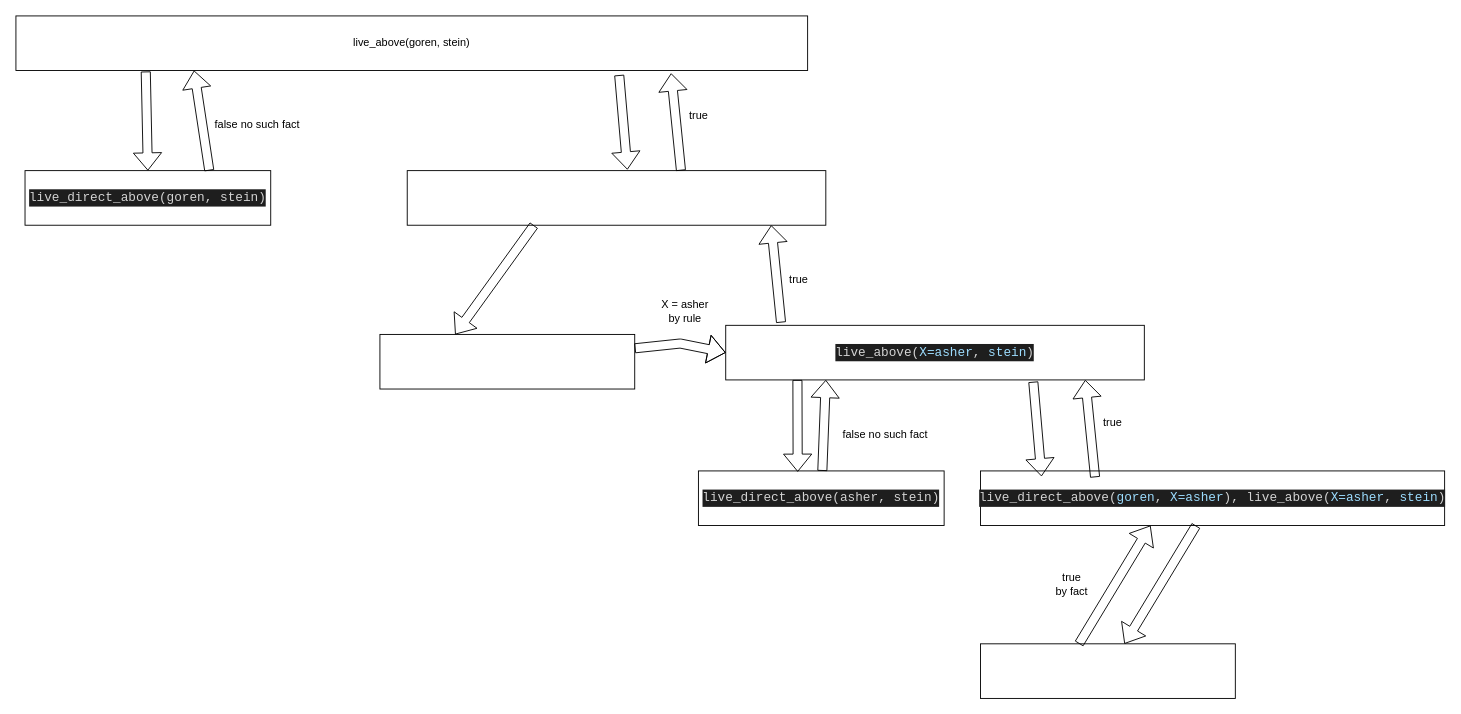
This 1461x714 diagram has some shape labels left out. The centre of each missing label's shape, as x and y in pixels:
live_direct_above( goren , asher ): (1107,670)
live_direct_above( goren , X ): (507,361)
live_direct_above( goren , X ), live_above( X , stein ): (616,197)
